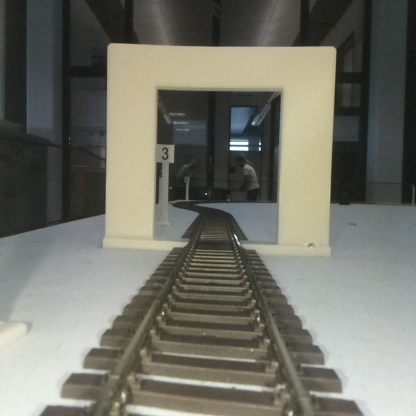white-info-3: (156, 143, 174, 224)
